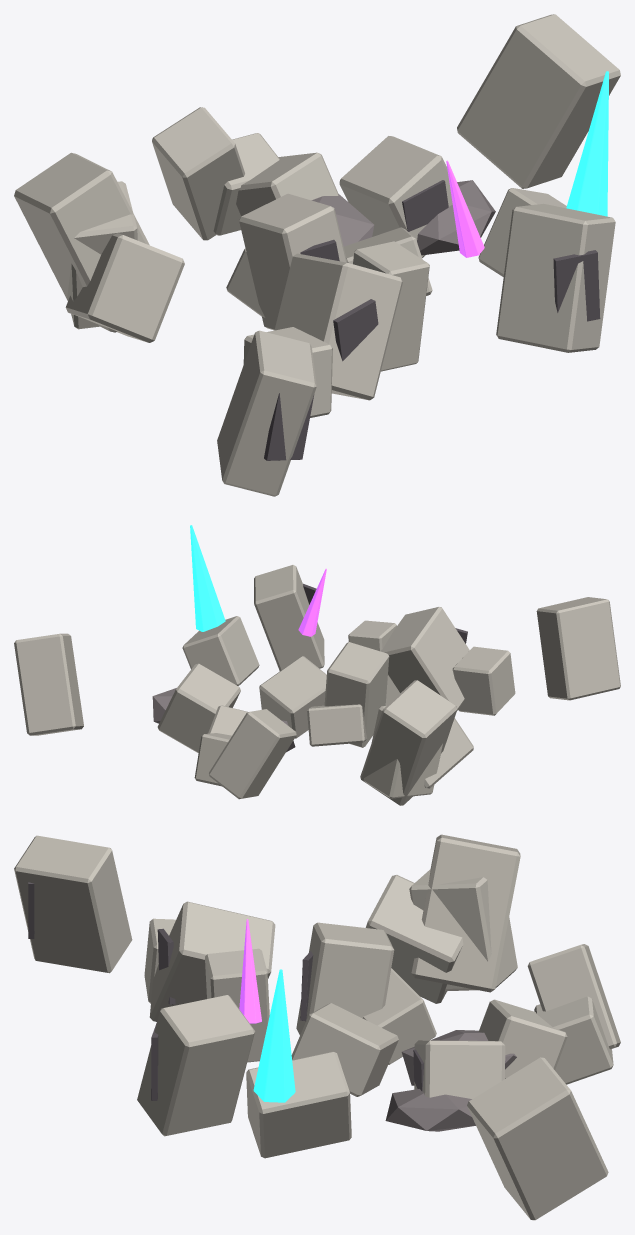
Rendered from runtime.glb.
3 views of the same model, one above another, from view 1: azimuth 30°, elevation 25°; view 2: azimuth 150°, elevation 25°; view 3: azimuth 270°, elevation 25° (orthographic). The views are drawn at different scales.
Visible parts, largest first — view 1: crystal-ruins-rubble-cluster-v09_stone_11_nocol, crystal-ruins-rubble-cluster-v09_stone_09_nocol, crystal-ruins-rubble-cluster-v09_stone_12_nocol, crystal-ruins-rubble-cluster-v09_stone_03_nocol, crystal-ruins-rubble-cluster-v09_stone_08_nocol, crystal-ruins-rubble-cluster-v09_stone_10_nocol, crystal-ruins-rubble-cluster-v09_stone_04_nocol, crystal-ruins-rubble-cluster-v09_stone_06_nocol, crystal-ruins-rubble-cluster-v09_stone_15_nocol, crystal-ruins-rubble-cluster-v09_stone_13_nocol, crystal-ruins-rubble-cluster-v09_stone_14_nocol, crystal-ruins-rubble-cluster-v09_crystal_00_nocol (+13 smaller); view 2: crystal-ruins-rubble-cluster-v09_stone_12_nocol, crystal-ruins-rubble-cluster-v09_stone_08_nocol, crystal-ruins-rubble-cluster-v09_stone_11_nocol, crystal-ruins-rubble-cluster-v09_stone_03_nocol, crystal-ruins-rubble-cluster-v09_stone_09_nocol, crystal-ruins-rubble-cluster-v09_stone_04_nocol, crystal-ruins-rubble-cluster-v09_stone_06_nocol, crystal-ruins-rubble-cluster-v09_stone_15_nocol, crystal-ruins-rubble-cluster-v09_stone_05_nocol, crystal-ruins-rubble-cluster-v09_stone_16_nocol, crystal-ruins-rubble-cluster-v09_stone_02_nocol, crystal-ruins-rubble-cluster-v09_stone_00_nocol (+8 smaller); view 3: crystal-ruins-rubble-cluster-v09_stone_11_nocol, crystal-ruins-rubble-cluster-v09_stone_12_nocol, crystal-ruins-rubble-cluster-v09_stone_09_nocol, crystal-ruins-rubble-cluster-v09_stone_08_nocol, crystal-ruins-rubble-cluster-v09_stone_02_nocol, crystal-ruins-rubble-cluster-v09_stone_06_nocol, crystal-ruins-rubble-cluster-v09_stone_03_nocol, crystal-ruins-rubble-cluster-v09_stone_10_nocol, crystal-ruins-rubble-cluster-v09_stone_16_nocol, crystal-ruins-rubble-cluster-v09_stone_15_nocol, crystal-ruins-rubble-cluster-v09_stone_04_nocol, crystal-ruins-rubble-cluster-v09_stone_07_nocol (+11 smaller).
Part boxes in pixels (x1,y1,x2,y2): crystal-ruins-rubble-cluster-v09_stone_11_nocol: [457, 14, 620, 188]; crystal-ruins-rubble-cluster-v09_stone_09_nocol: [496, 203, 615, 352]; crystal-ruins-rubble-cluster-v09_stone_12_nocol: [217, 330, 316, 496]; crystal-ruins-rubble-cluster-v09_stone_03_nocol: [274, 253, 402, 400]; crystal-ruins-rubble-cluster-v09_stone_08_nocol: [14, 152, 149, 332]; crystal-ruins-rubble-cluster-v09_stone_10_nocol: [65, 233, 184, 342]; crystal-ruins-rubble-cluster-v09_stone_04_nocol: [152, 107, 244, 240]; crystal-ruins-rubble-cluster-v09_stone_06_nocol: [239, 193, 347, 330]; crystal-ruins-rubble-cluster-v09_stone_15_nocol: [339, 136, 452, 257]; crystal-ruins-rubble-cluster-v09_stone_13_nocol: [353, 241, 429, 371]; crystal-ruins-rubble-cluster-v09_stone_14_nocol: [236, 152, 338, 216]; crystal-ruins-rubble-cluster-v09_crystal_00_nocol: [566, 71, 608, 216]; crystal-ruins-rubble-cluster-v09_stone_12_nocol: [536, 597, 620, 700]; crystal-ruins-rubble-cluster-v09_stone_08_nocol: [360, 680, 457, 805]; crystal-ruins-rubble-cluster-v09_stone_11_nocol: [14, 633, 83, 735]; crystal-ruins-rubble-cluster-v09_stone_03_nocol: [380, 607, 469, 710]; crystal-ruins-rubble-cluster-v09_stone_09_nocol: [254, 565, 324, 670]; crystal-ruins-rubble-cluster-v09_stone_04_nocol: [209, 709, 296, 799]; crystal-ruins-rubble-cluster-v09_stone_06_nocol: [324, 642, 389, 747]; crystal-ruins-rubble-cluster-v09_stone_15_nocol: [157, 663, 240, 753]; crystal-ruins-rubble-cluster-v09_stone_05_nocol: [452, 646, 515, 715]; crystal-ruins-rubble-cluster-v09_stone_16_nocol: [259, 656, 326, 738]; crystal-ruins-rubble-cluster-v09_stone_02_nocol: [182, 616, 259, 685]; crystal-ruins-rubble-cluster-v09_stone_00_nocol: [307, 704, 366, 746]; crystal-ruins-rubble-cluster-v09_stone_11_nocol: [467, 1057, 608, 1220]; crystal-ruins-rubble-cluster-v09_stone_12_nocol: [14, 835, 132, 973]; crystal-ruins-rubble-cluster-v09_stone_09_nocol: [137, 995, 255, 1136]; crystal-ruins-rubble-cluster-v09_stone_08_nocol: [411, 834, 520, 992]; crystal-ruins-rubble-cluster-v09_stone_02_nocol: [246, 1051, 351, 1158]; crystal-ruins-rubble-cluster-v09_stone_06_nocol: [296, 922, 394, 1034]; crystal-ruins-rubble-cluster-v09_stone_03_nocol: [149, 901, 275, 1021]; crystal-ruins-rubble-cluster-v09_stone_10_nocol: [365, 875, 463, 1003]; crystal-ruins-rubble-cluster-v09_stone_16_nocol: [291, 1003, 398, 1096]; crystal-ruins-rubble-cluster-v09_stone_15_nocol: [414, 1040, 505, 1098]; crystal-ruins-rubble-cluster-v09_stone_04_nocol: [527, 944, 620, 1049]; crystal-ruins-rubble-cluster-v09_stone_07_nocol: [409, 869, 517, 991].
Bounding box in the file's own units: 6.74 × 2.33 × 5.99.
